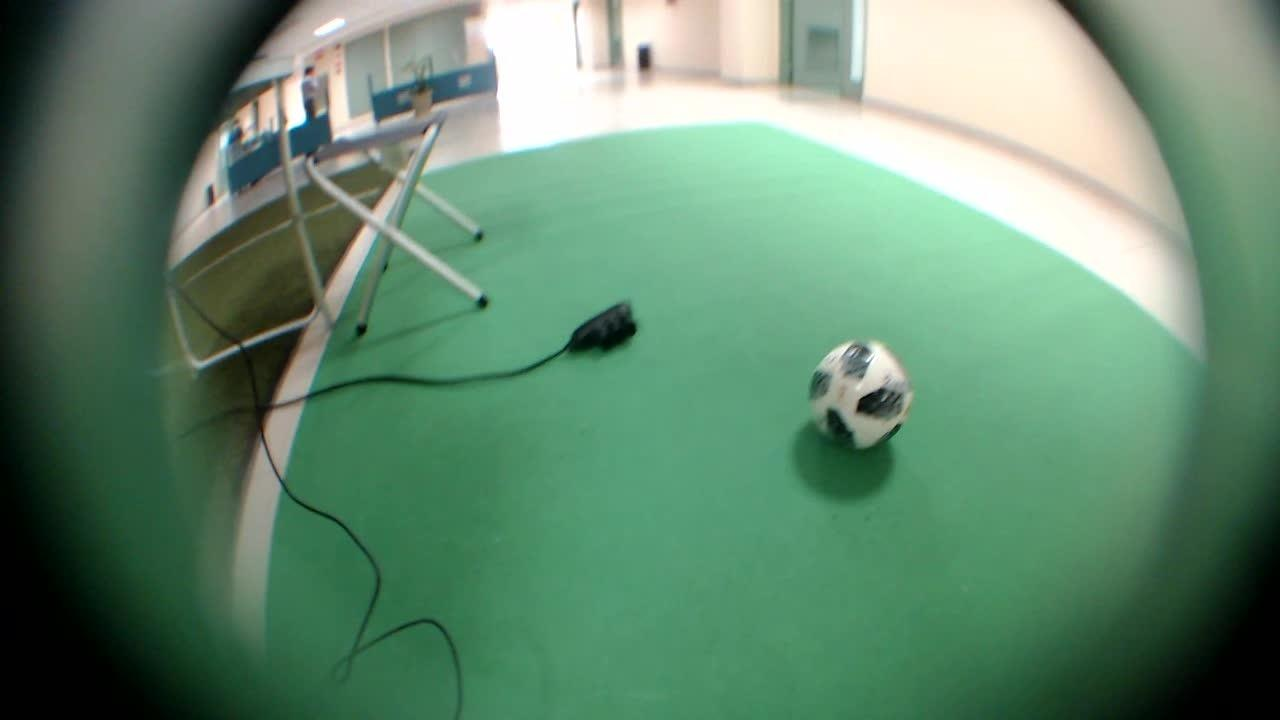ball: (799, 322, 922, 463)
